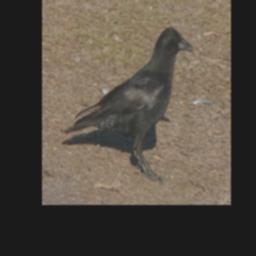Crow: (63, 24, 190, 182)
